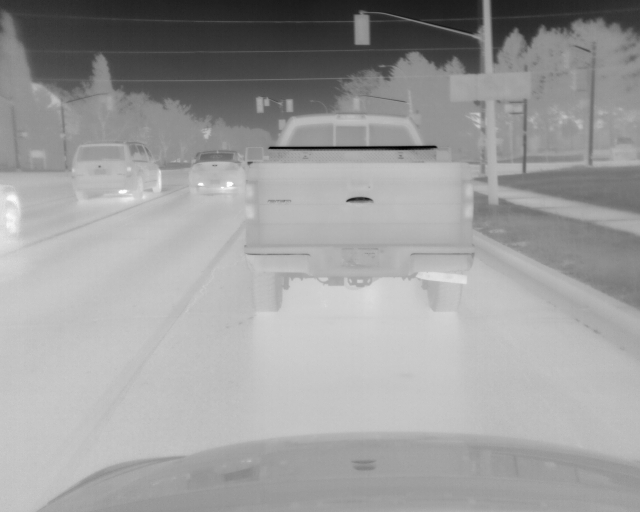car: (242, 111, 478, 319), (73, 140, 162, 205), (189, 149, 249, 195), (1, 188, 22, 257)
